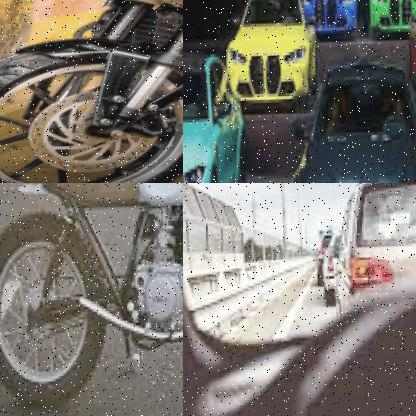bike: (0, 183, 183, 394)
car: (281, 57, 416, 183), (319, 183, 416, 306), (223, 0, 311, 99), (183, 49, 247, 183), (297, 0, 361, 34), (365, 0, 416, 25)
